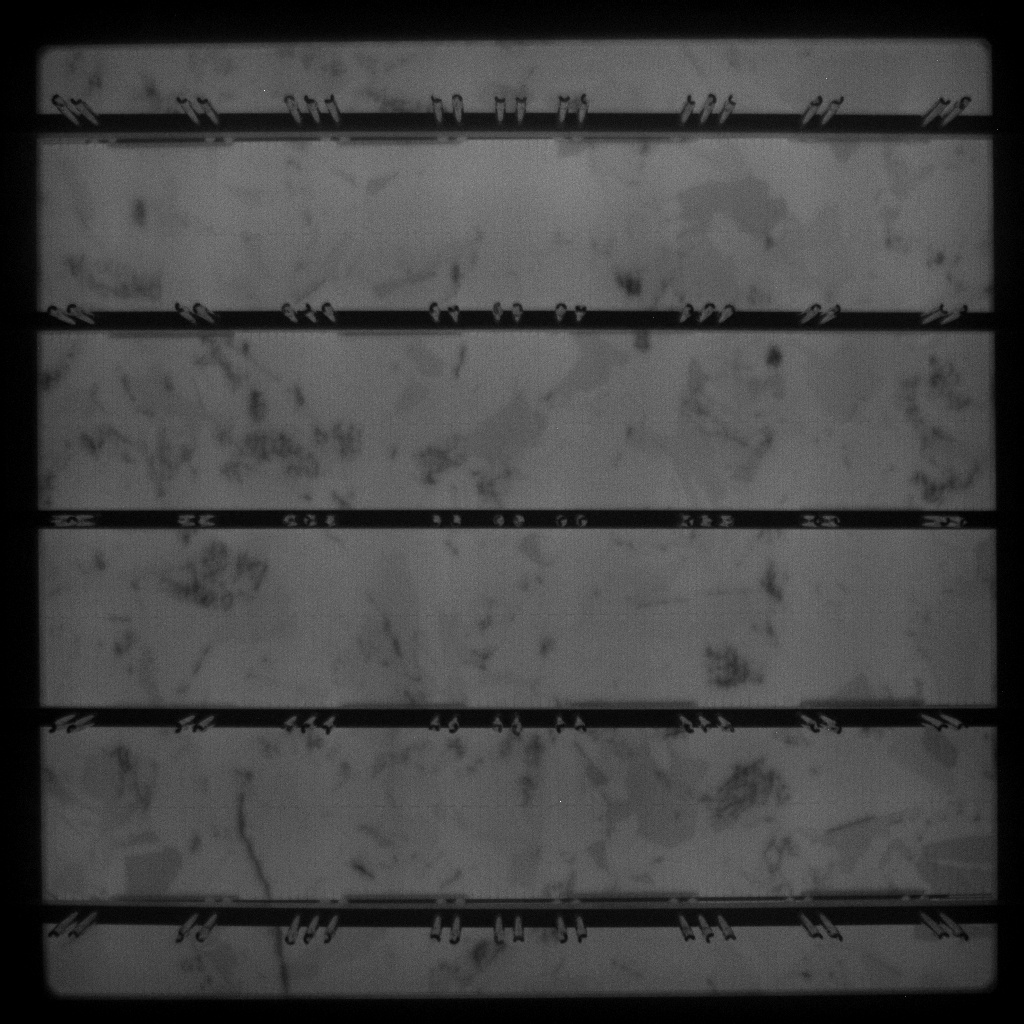crack: (233, 794, 278, 893), (271, 947, 291, 994)
